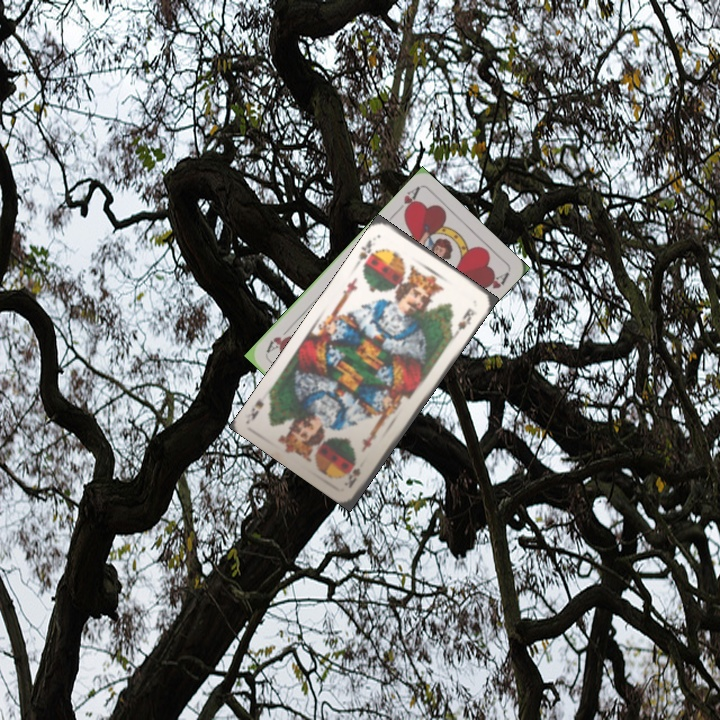HA: (390, 183, 422, 218)
SK: (354, 235, 379, 271), (340, 464, 363, 491)
